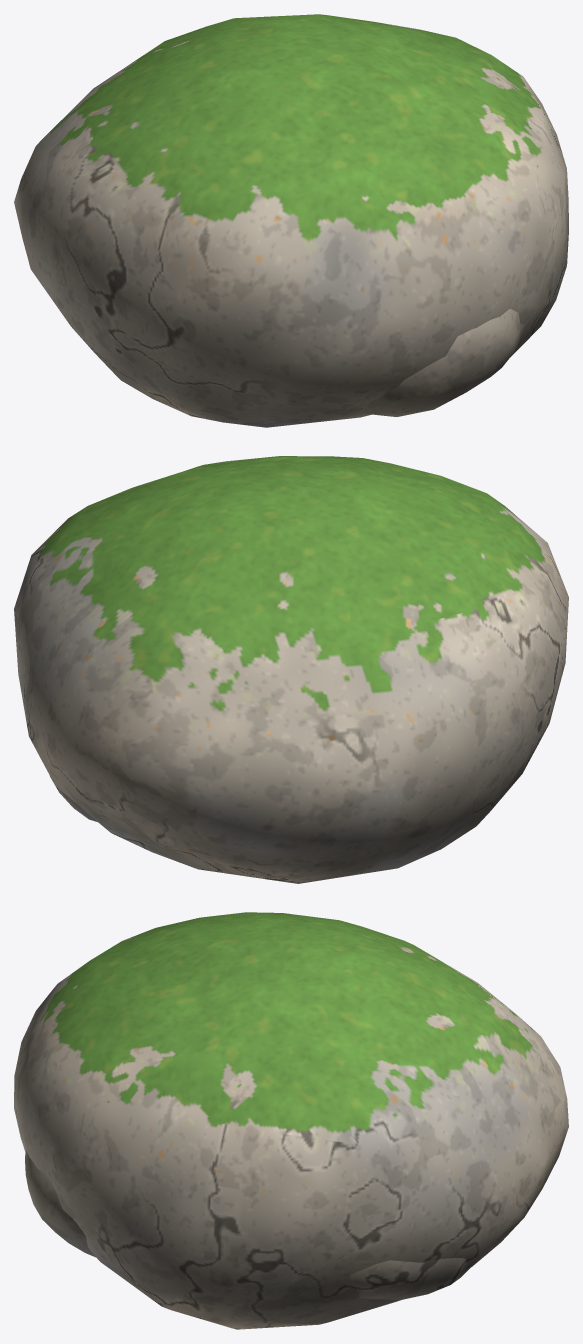
The model's file is rock_b.glb.
3 views of the same model, one above another, from view 1: azimuth 30°, elevation 25°; view 2: azimuth 150°, elevation 25°; view 3: azimuth 270°, elevation 25° (orthographic). The views are drawn at different scales.
Parts seen in each view (by area): view 1: Rock; view 2: Rock; view 3: Rock.
Boxes of the visible parts, x1,y1,x2,y2 form: Rock: (14, 14, 568, 427); Rock: (14, 456, 568, 883); Rock: (14, 912, 568, 1329).
Bounding box in the file's own units: 2.1 × 1.46 × 2.2.
1 material, 1 textured.
